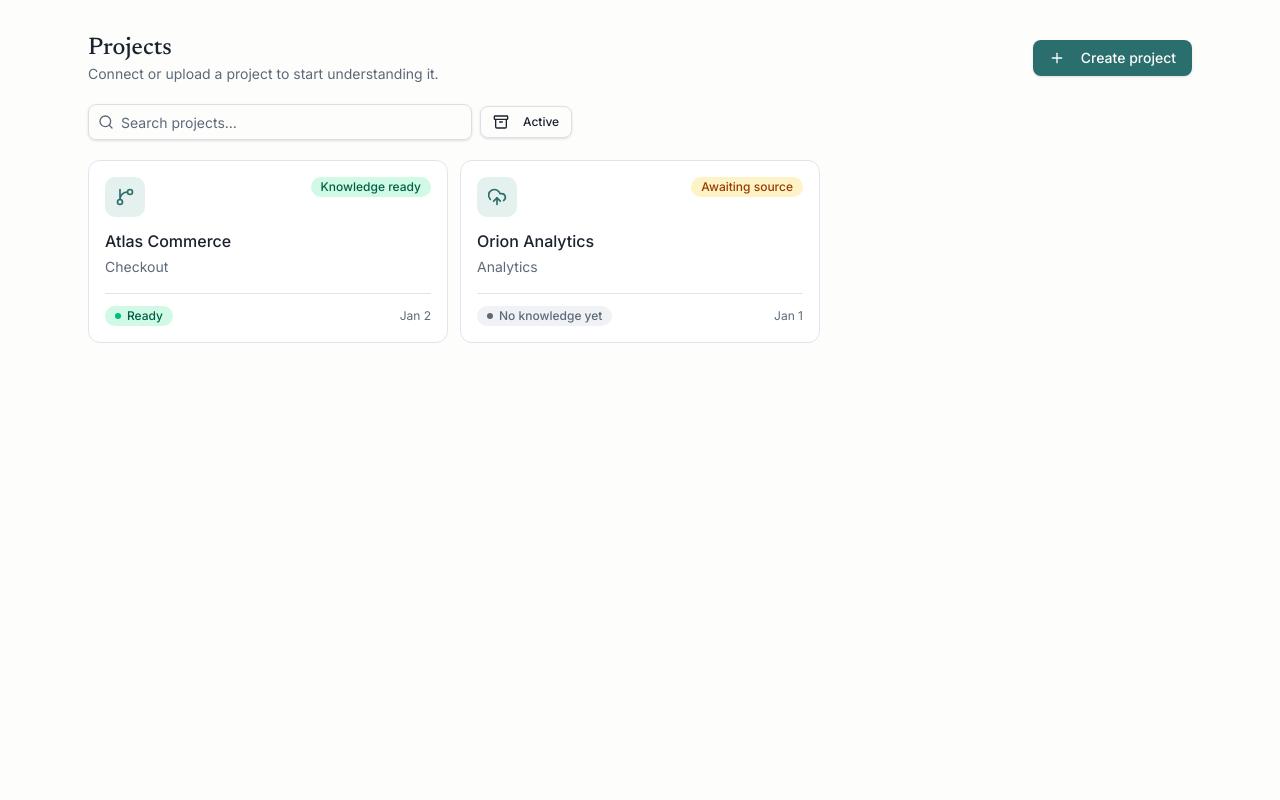
ProjectsPage › opens the create project dialog
Expected: the heading "Atlas Commerce" is shown, [105,231,231,251]
Click the button "Create project".
click(1112, 58)  # box [1033,40,1192,76]
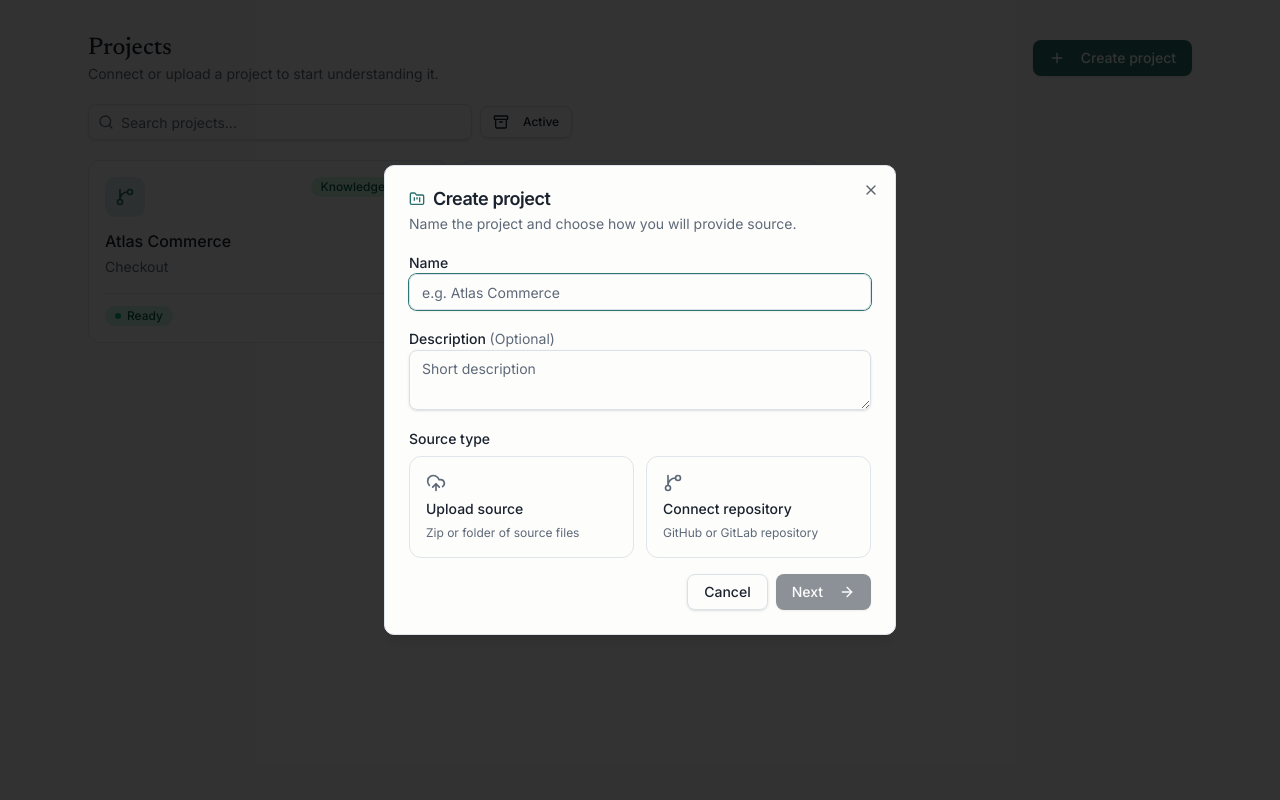
Now the heading "Create project" is shown, box [409,188,550,209]
